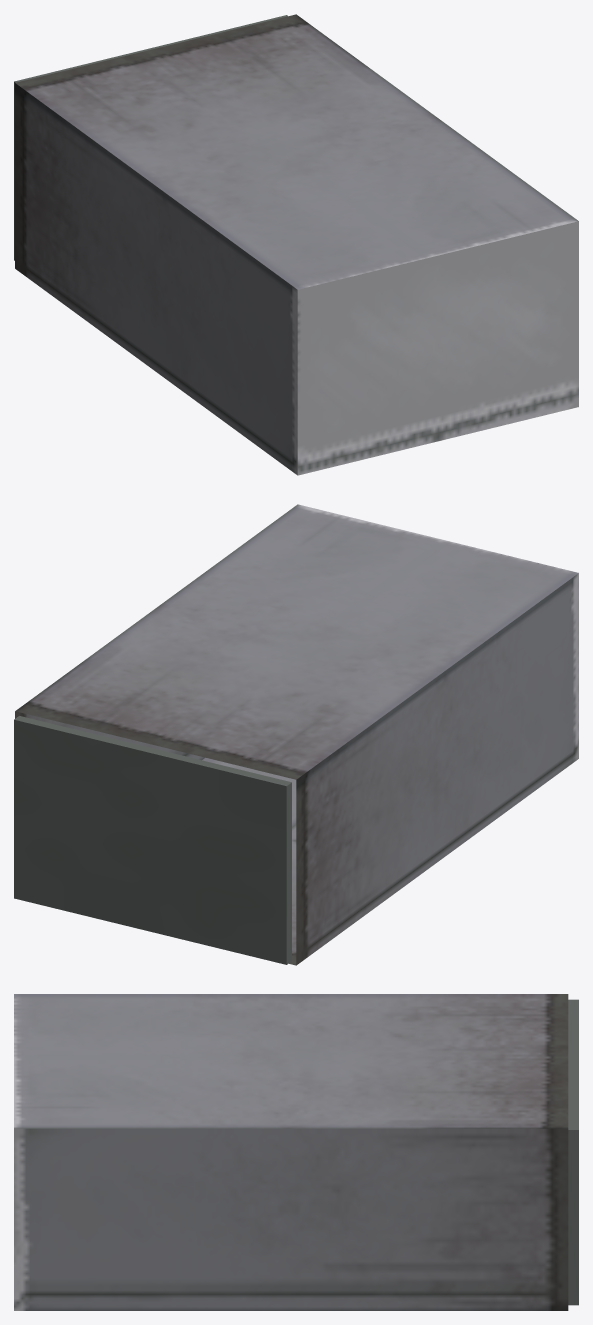
The model's file is pz_g020_furniture_storage_02_metal_locker.obj.
The picture shows the model from 3 angles, top to bottom: view 1: azimuth 30°, elevation 25°; view 2: azimuth 150°, elevation 25°; view 3: azimuth 270°, elevation 25°; orthographic projection.
Visible parts, largest first — view 1: locker_body_front, locker_body_right, locker_body_top, recessed_plinth_front; view 2: locker_body_front, locker_body_right, recessed_plinth_bottom, recessed_plinth_front, locker_body_rear, recessed_plinth_right, locker_body_left; view 3: locker_body_left, locker_body_front, recessed_plinth_left, recessed_plinth_front.
Part boxes in pixels (left/top/right/bottom): locker_body_front: left=15, top=14, right=578, bottom=289; locker_body_right: left=15, top=83, right=297, bottom=475; locker_body_top: left=297, top=221, right=578, bottom=475; recessed_plinth_front: left=14, top=15, right=287, bottom=82; locker_body_front: left=15, top=504, right=578, bottom=779; locker_body_right: left=296, top=573, right=578, bottom=965; recessed_plinth_bottom: left=14, top=719, right=286, bottom=964; recessed_plinth_front: left=14, top=716, right=291, bottom=786; locker_body_rear: left=202, top=757, right=296, bottom=965; recessed_plinth_right: left=286, top=782, right=291, bottom=964; locker_body_left: left=15, top=711, right=204, bottom=760; locker_body_left: left=14, top=1128, right=568, bottom=1310; locker_body_front: left=14, top=994, right=568, bottom=1128; recessed_plinth_left: left=568, top=1130, right=578, bottom=1305; recessed_plinth_front: left=568, top=999, right=578, bottom=1129.
Bounding box in the file's own units: 1 × 0.6434 × 1.77.
Materials: 1 (1 with a texture image).
